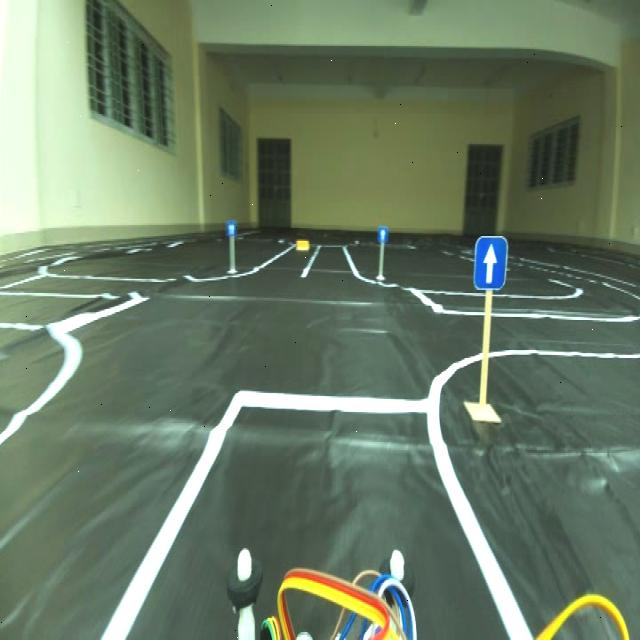onewayroad: (470, 238, 508, 296), (378, 224, 388, 243), (225, 217, 235, 230)
roadblock: (297, 236, 312, 255)
